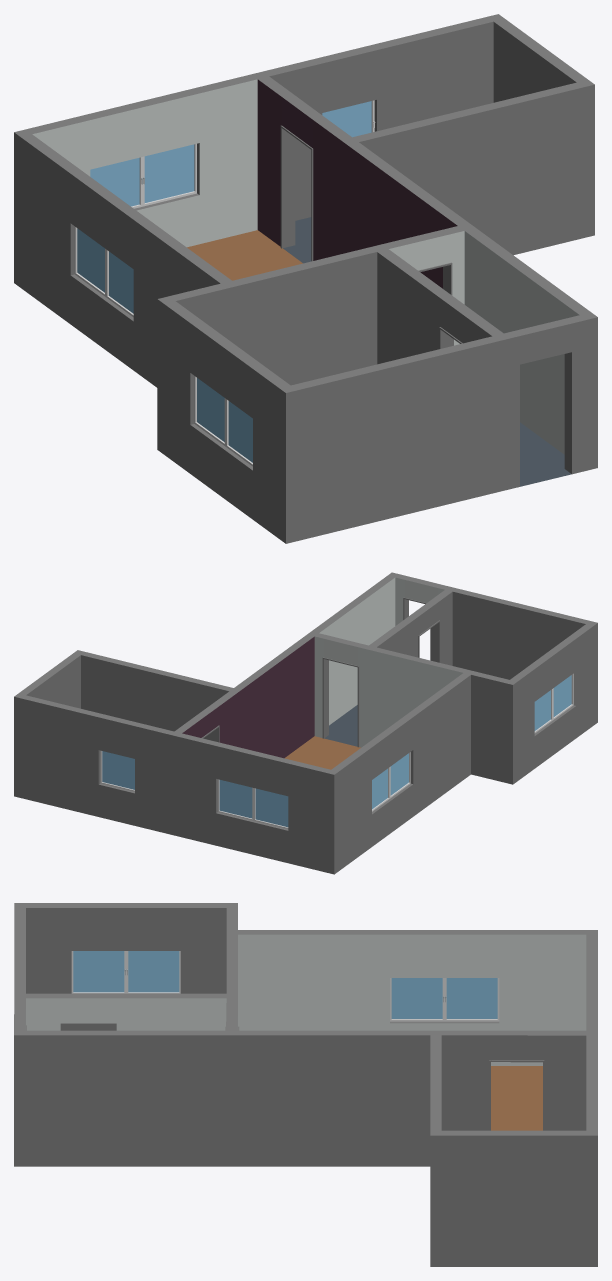
The model's file is Building.fbx.
3 renders of one model, top to bottom at view 1: azimuth 30°, elevation 25°; view 2: azimuth 150°, elevation 25°; view 3: azimuth 270°, elevation 25°, orthographic. The views are drawn at different scales.
Visible parts, largest first — view 1: House; view 2: House; view 3: House.
Boxes of the visible parts, left/top/right/bottom form: House: left=14, top=14, right=597, bottom=543; House: left=14, top=572, right=597, bottom=874; House: left=14, top=903, right=597, bottom=1266.
Bounding box in the file's own units: 9.51 × 2.5 × 10.09.
